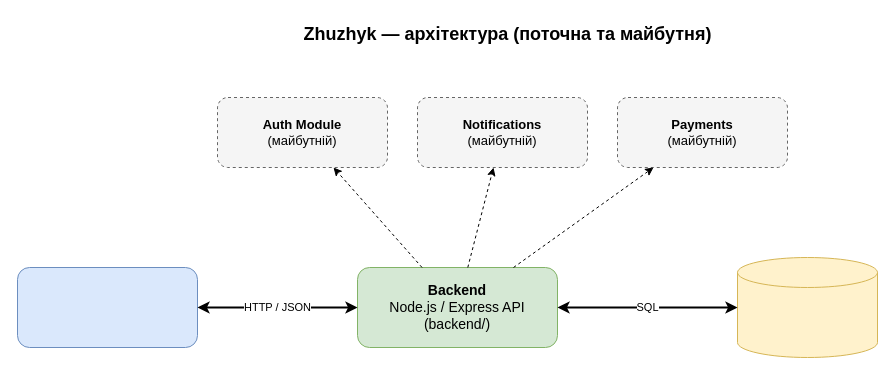
This 895x375 diagram has some shape labels left out. The centre of each missing label's shape, as x and y in pixels:
Client Browser (frontend/public): the point at 107,307
Database SQLite: the point at 807,307
